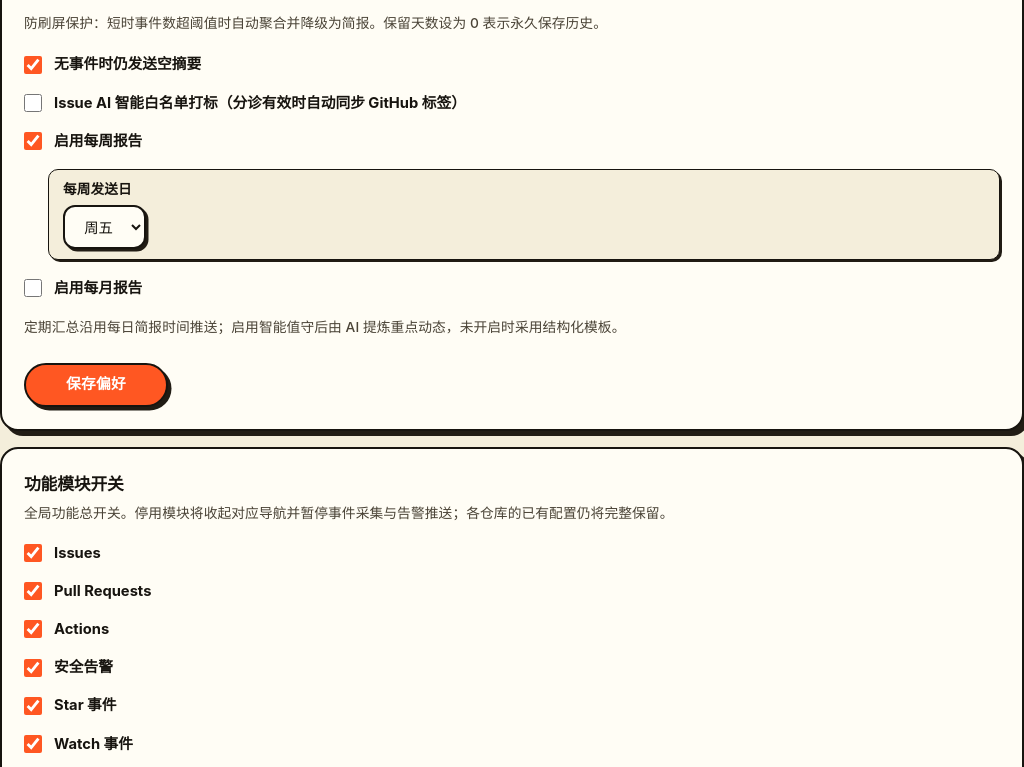
Test: 设置页 › 保存偏好成功后在运行偏好区块内展示提示
The image size is (1024, 767).
(page scrolled)
Expected: the checkbox labelled "Issues" is shown, x1=24 y1=544 x2=42 y2=562
Click the button "保存偏好": (96, 385) x1=24 y1=363 x2=168 y2=407
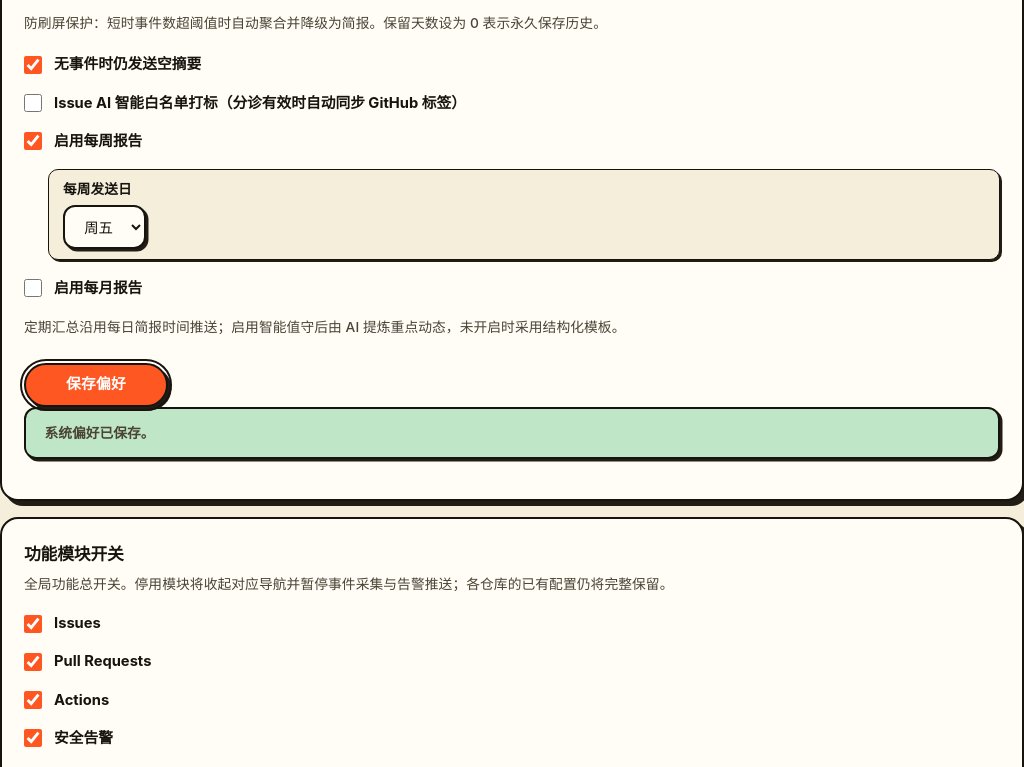
Result: the text "系统偏好已保存。" is shown at x1=24 y1=407 x2=1000 y2=460
